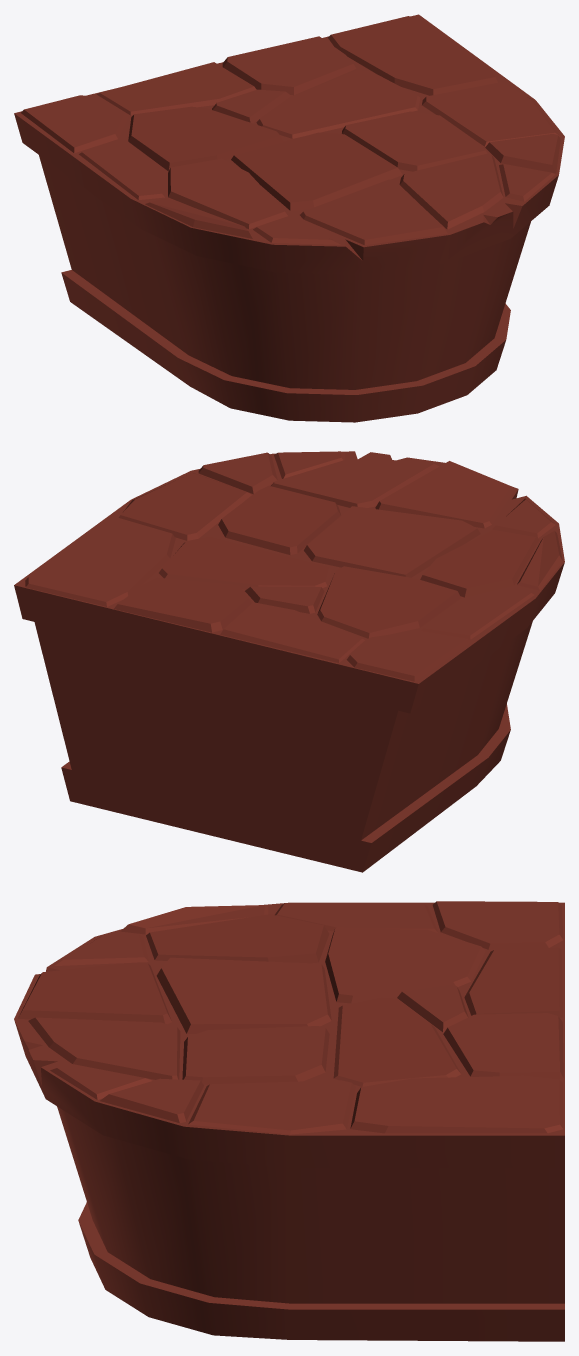
File: platform_004.fbx
The picture shows the model from 3 angles, top to bottom: view 1: azimuth 30°, elevation 25°; view 2: azimuth 150°, elevation 25°; view 3: azimuth 270°, elevation 25°; orthographic projection. The views are drawn at different scales.
Parts seen in each view (by area): view 1: platform_004; view 2: platform_004; view 3: platform_004.
Boxes of the visible parts, x1,y1,x2,y2 form: platform_004: (14,14,564,422); platform_004: (14,451,564,872); platform_004: (14,901,564,1341).
Size of the model in its own units: 500 by 500 by 248.
